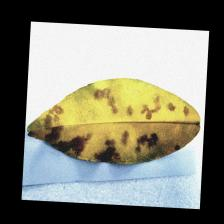black spot: (28, 81, 190, 175)
